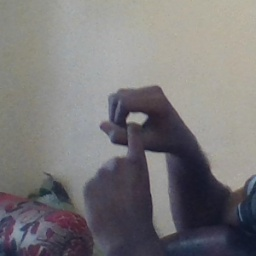Q: (79, 84, 180, 209)
